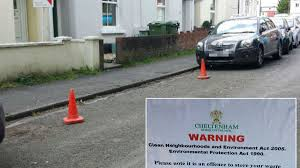car: (197, 15, 281, 70)
cone: (63, 88, 83, 126), (196, 58, 211, 79)
